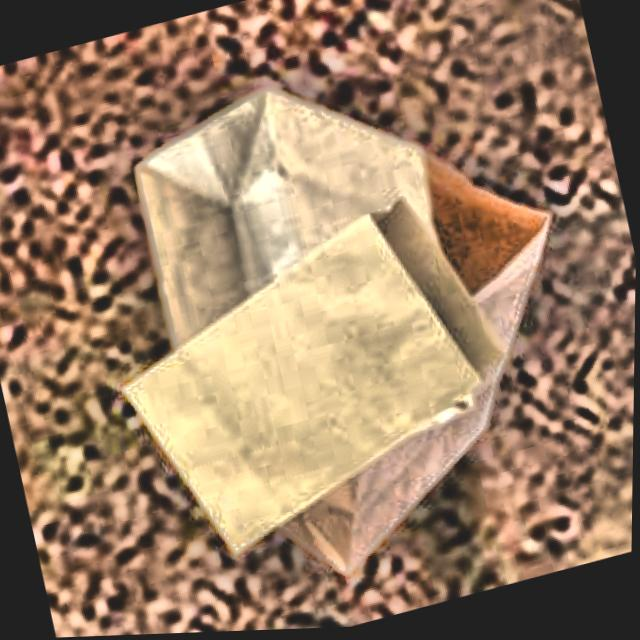Paper-bag: (93, 25, 631, 636), (87, 177, 540, 591)
